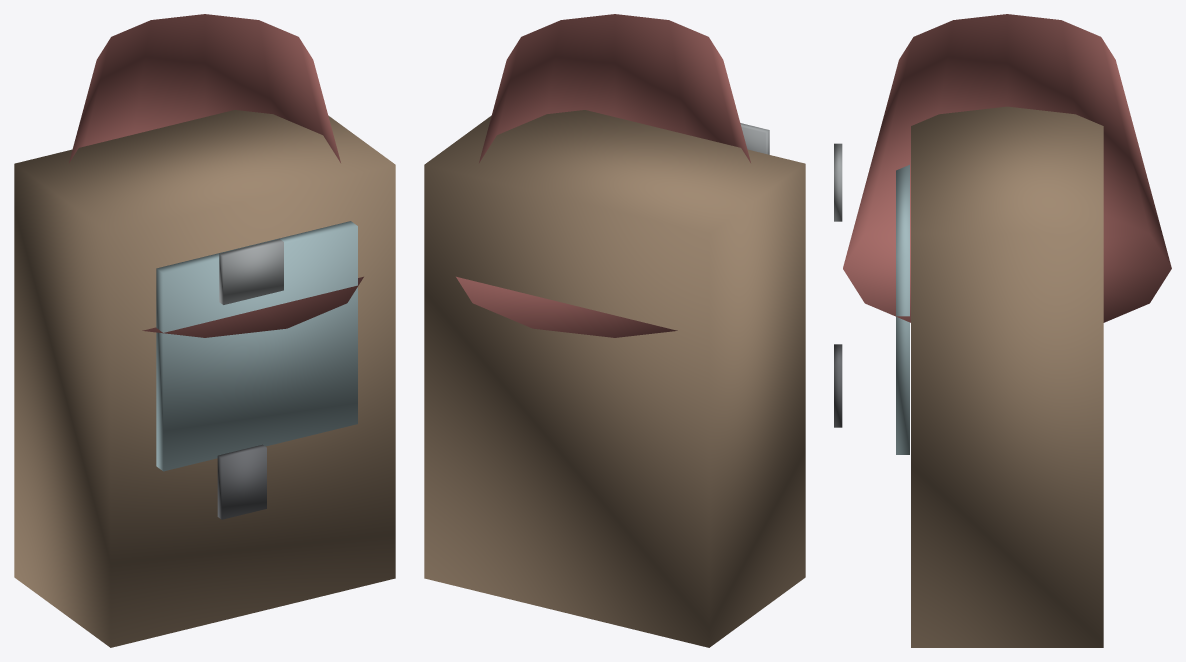
Rendered from jukebox__weathered.glb.
3 views of the same model, side by side, from view 1: azimuth 30°, elevation 25°; view 2: azimuth 150°, elevation 25°; view 3: azimuth 270°, elevation 25° (orthographic).
Visible parts, largest first — view 1: world; view 2: world; view 3: world.
Boxes of the visible parts, x1,y1,x2,y2 form: world: (14, 14, 395, 647); world: (424, 14, 805, 647); world: (834, 14, 1171, 647).
Bounding box in the file's own units: 0.82 × 1.43 × 0.8417.
